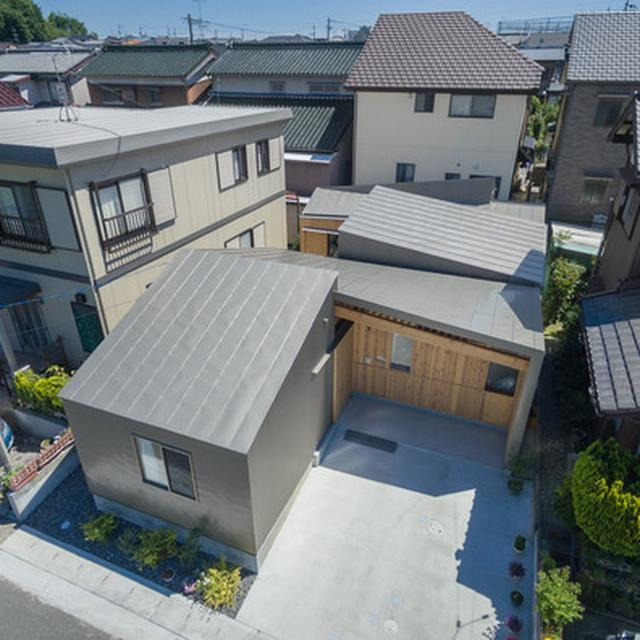building: (66, 184, 552, 573), (2, 106, 296, 336), (351, 13, 542, 202), (546, 12, 640, 227), (226, 39, 350, 184)
